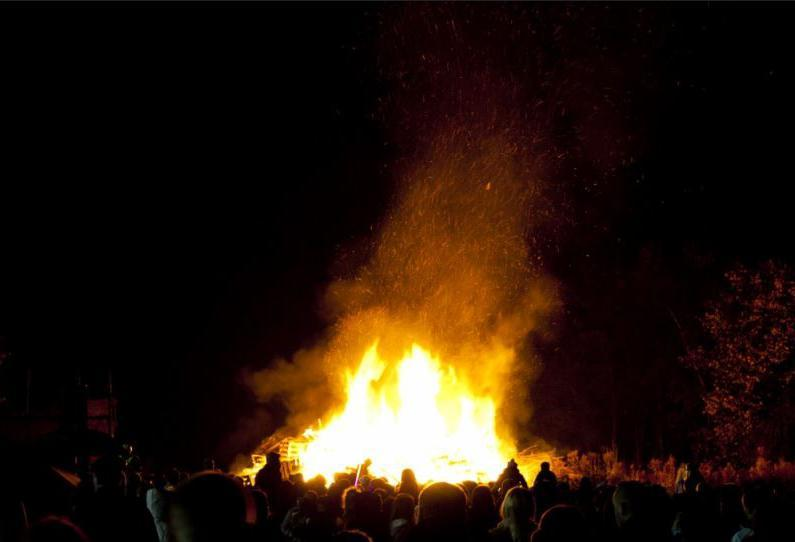Fire: (289, 332, 539, 491)
